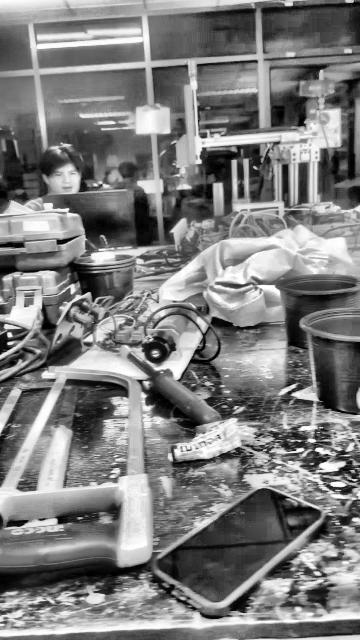pot: (300, 309, 360, 415), (276, 273, 359, 348), (69, 258, 138, 302)
